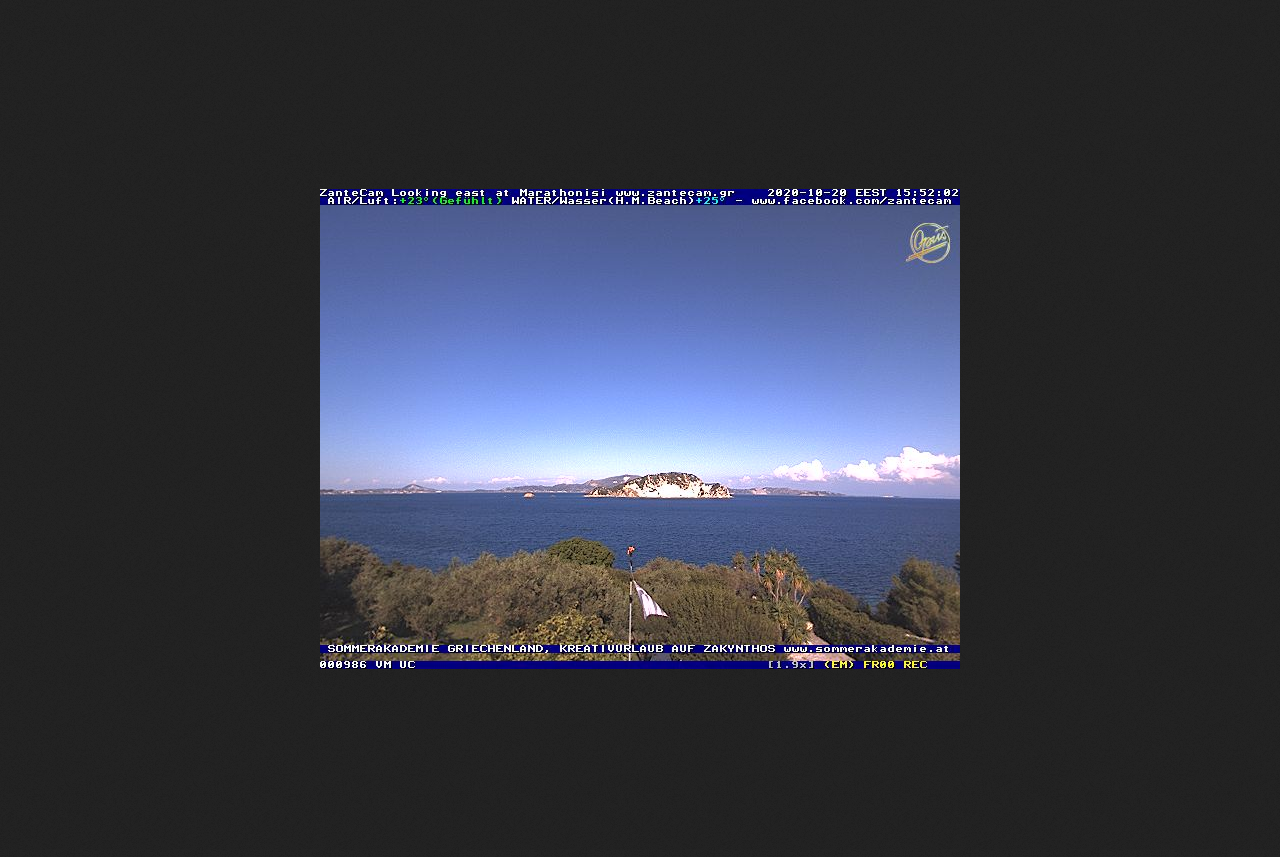maybe: (625, 570, 675, 626)
